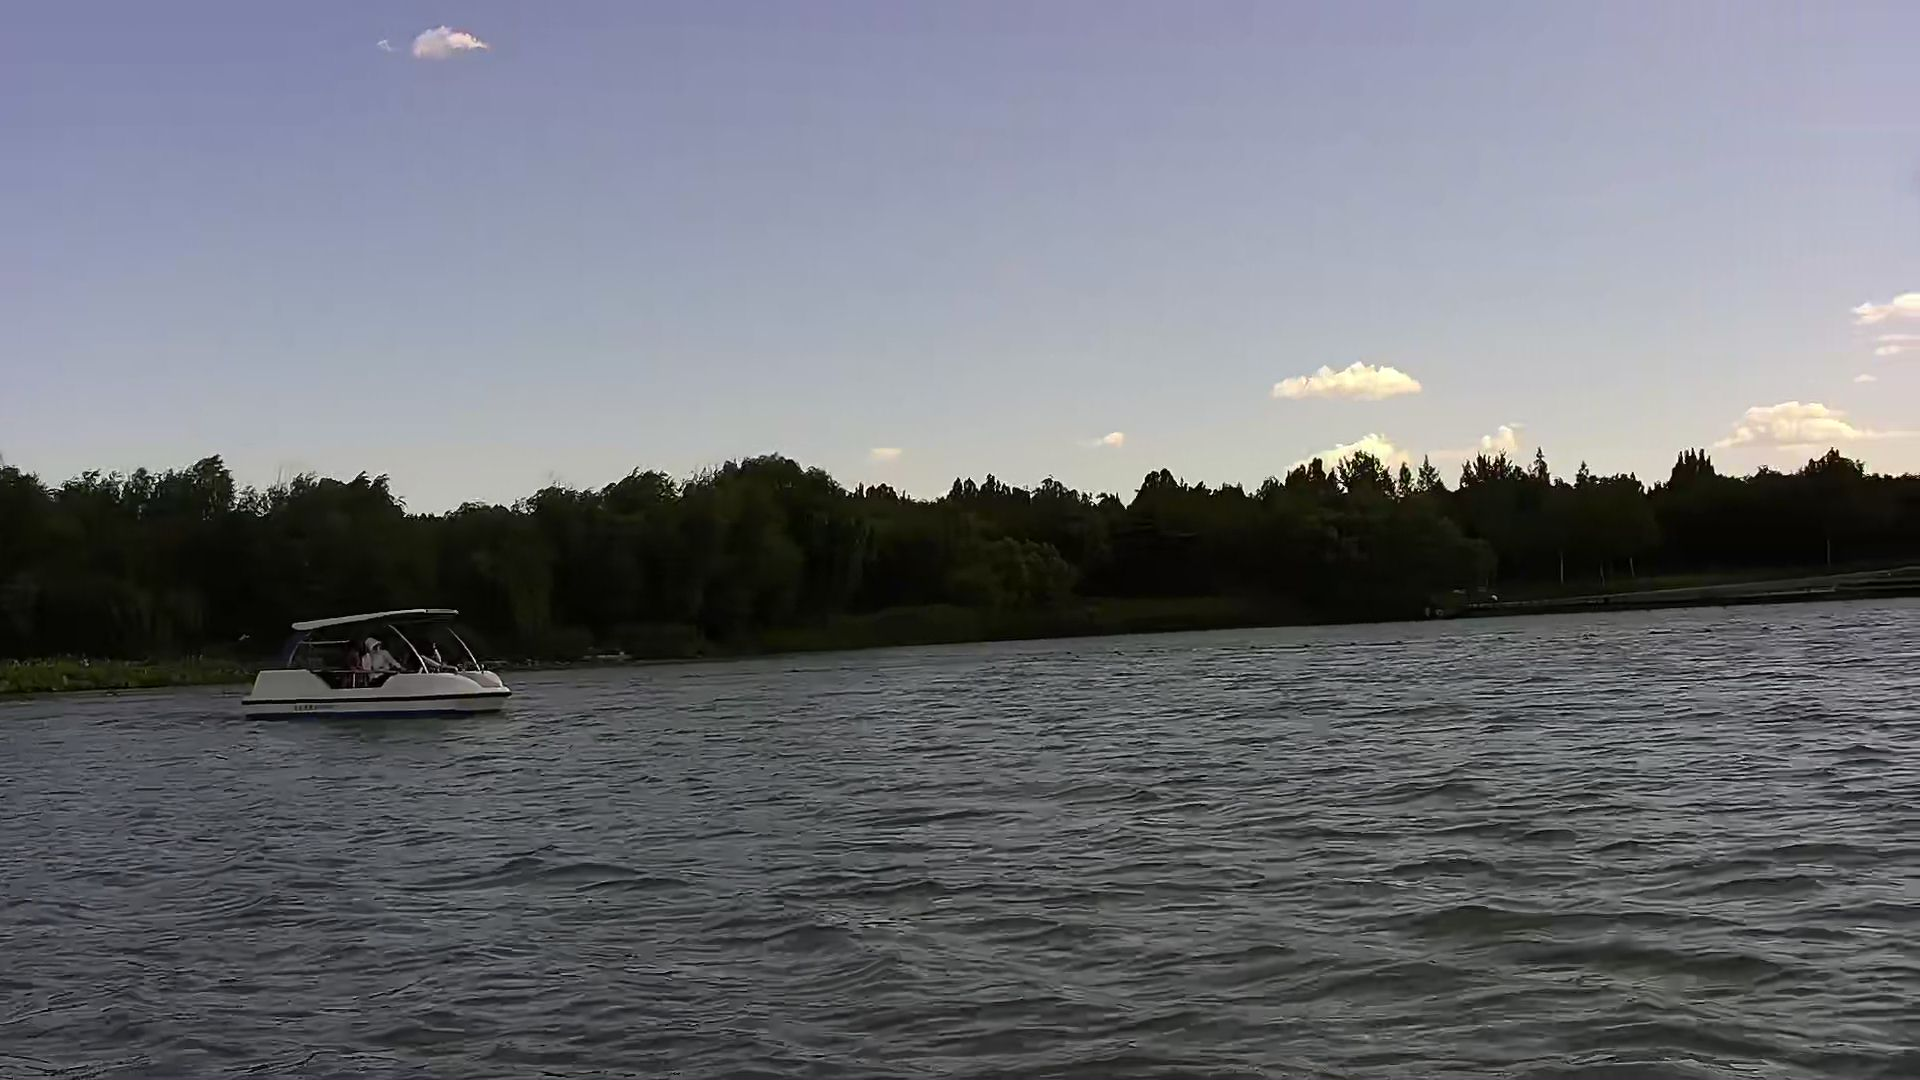boat: (235, 602, 512, 723)
person: (358, 632, 405, 689)
